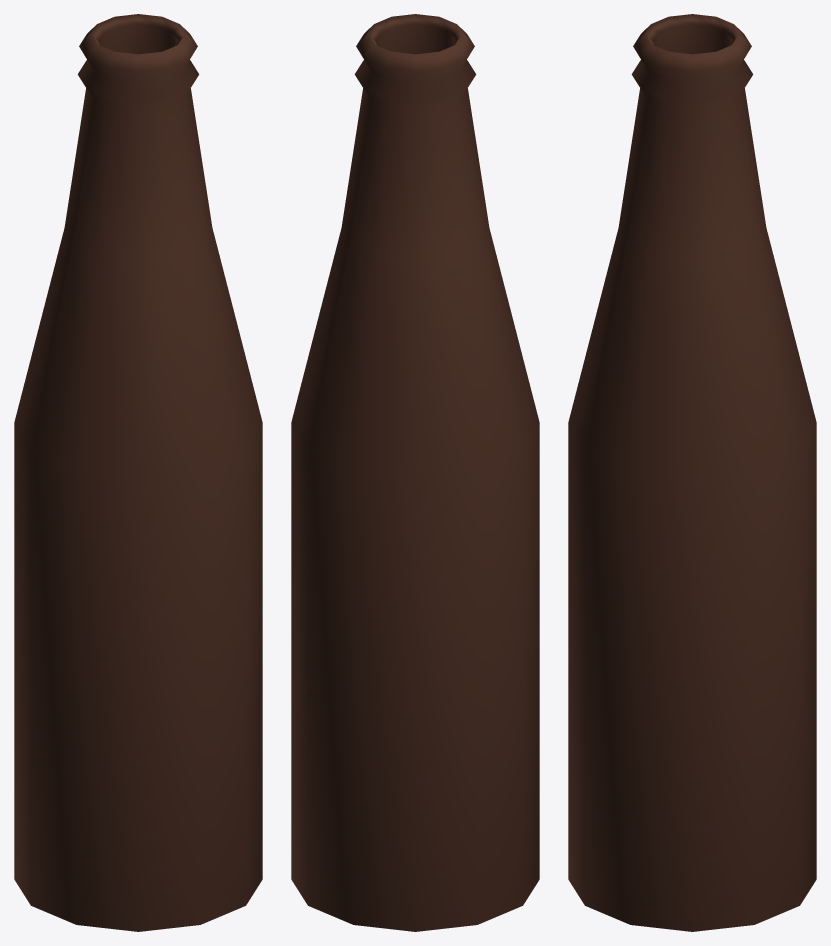
File: beerBottleBrown.fbx
3 views of the same model, side by side, from view 1: azimuth 30°, elevation 25°; view 2: azimuth 150°, elevation 25°; view 3: azimuth 270°, elevation 25° (orthographic).
Visible parts, largest first — view 1: beerbottleBrown; view 2: beerbottleBrown; view 3: beerbottleBrown.
Part boxes in pixels (x1,y1,x2,y2): beerbottleBrown: (14, 14, 262, 931); beerbottleBrown: (291, 14, 539, 931); beerbottleBrown: (568, 14, 816, 931).
Bounding box in the file's own units: 0.0899 × 0.3377 × 0.0899.
1 material, 1 textured.
